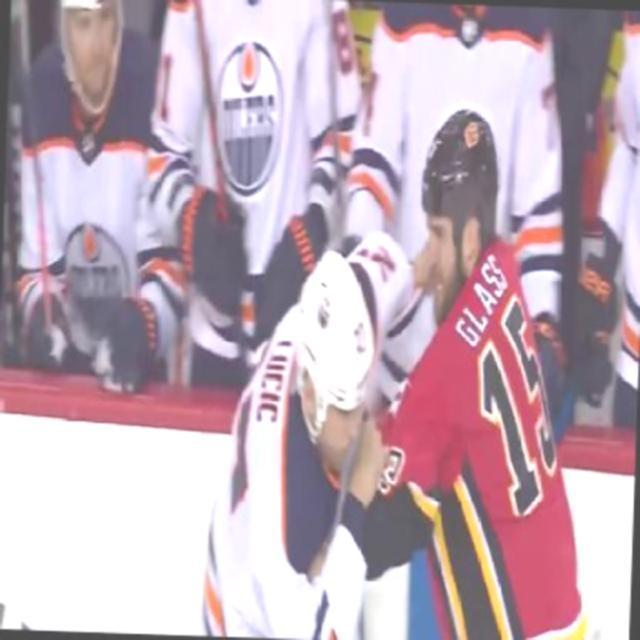fight: (236, 94, 562, 638)
